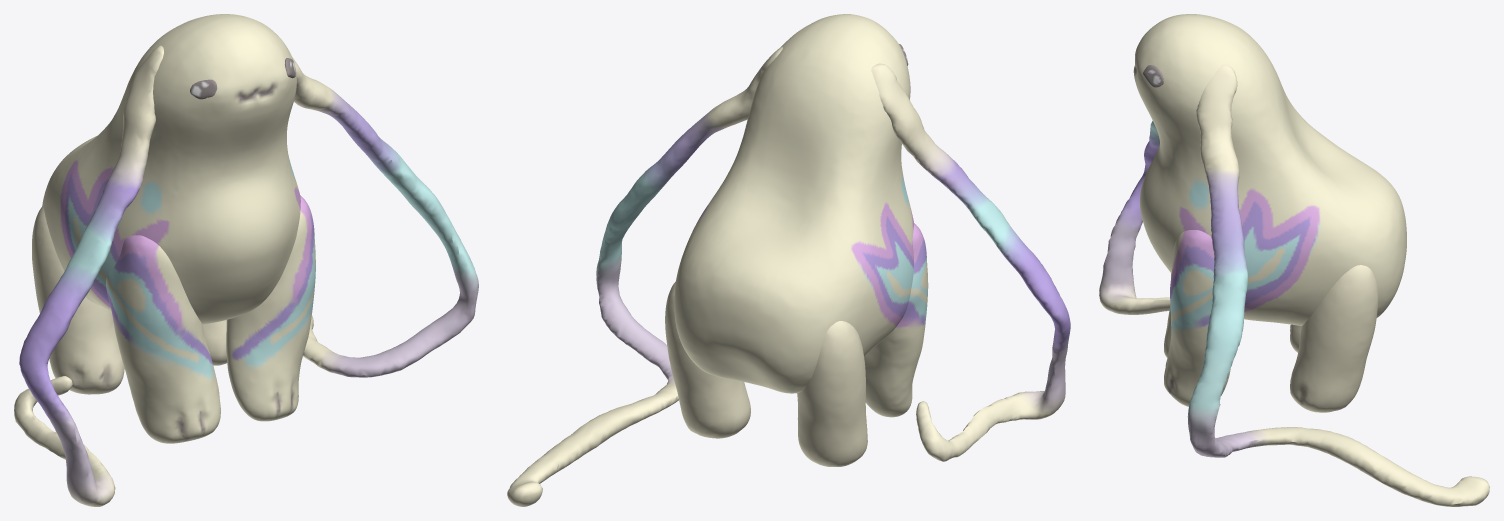
Rendered from CuteCreature.fbx.
The picture shows the model from 3 angles, left to right: view 1: azimuth 30°, elevation 25°; view 2: azimuth 150°, elevation 25°; view 3: azimuth 270°, elevation 25°; orthographic projection. The views are drawn at different scales.
Parts seen in each view (by area): view 1: Object_11, Object_9, Object_3, Object_5, Object_7; view 2: Object_11, Object_9, Object_5, Object_3; view 3: Object_11, Object_9, Object_5, Object_3.
Part boxes in pixels (x1,y1,x2,y2): Object_11: (42, 14, 300, 324); Object_9: (14, 45, 478, 506); Object_3: (106, 195, 315, 443); Object_5: (32, 206, 227, 394); Object_7: (190, 58, 295, 99); Object_11: (674, 14, 914, 393); Object_9: (507, 46, 1070, 506); Object_5: (665, 281, 867, 466); Object_3: (864, 223, 928, 417); Object_11: (1133, 14, 1406, 325); Object_9: (1099, 64, 1489, 506); Object_5: (1290, 265, 1378, 412); Object_3: (1164, 230, 1230, 406).
Size of the model in its own units: 236 by 213 by 188.
